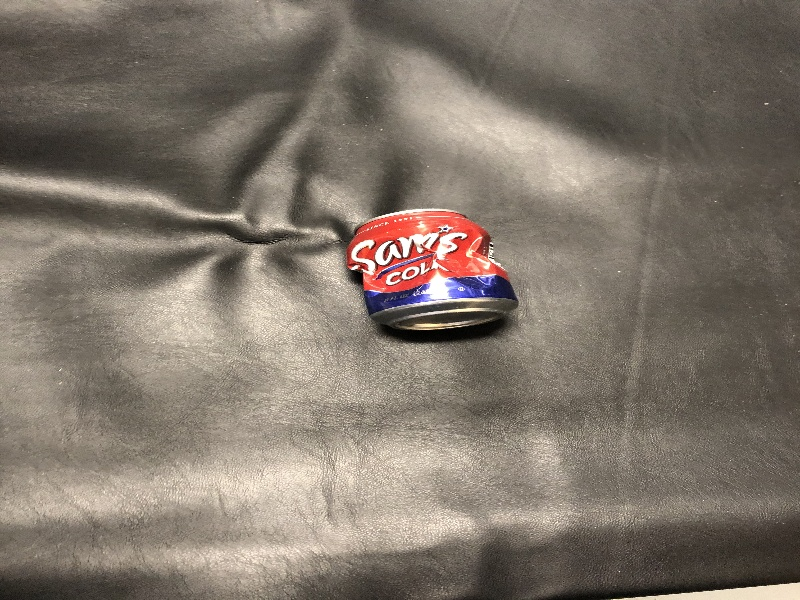metal: (335, 198, 534, 356)
